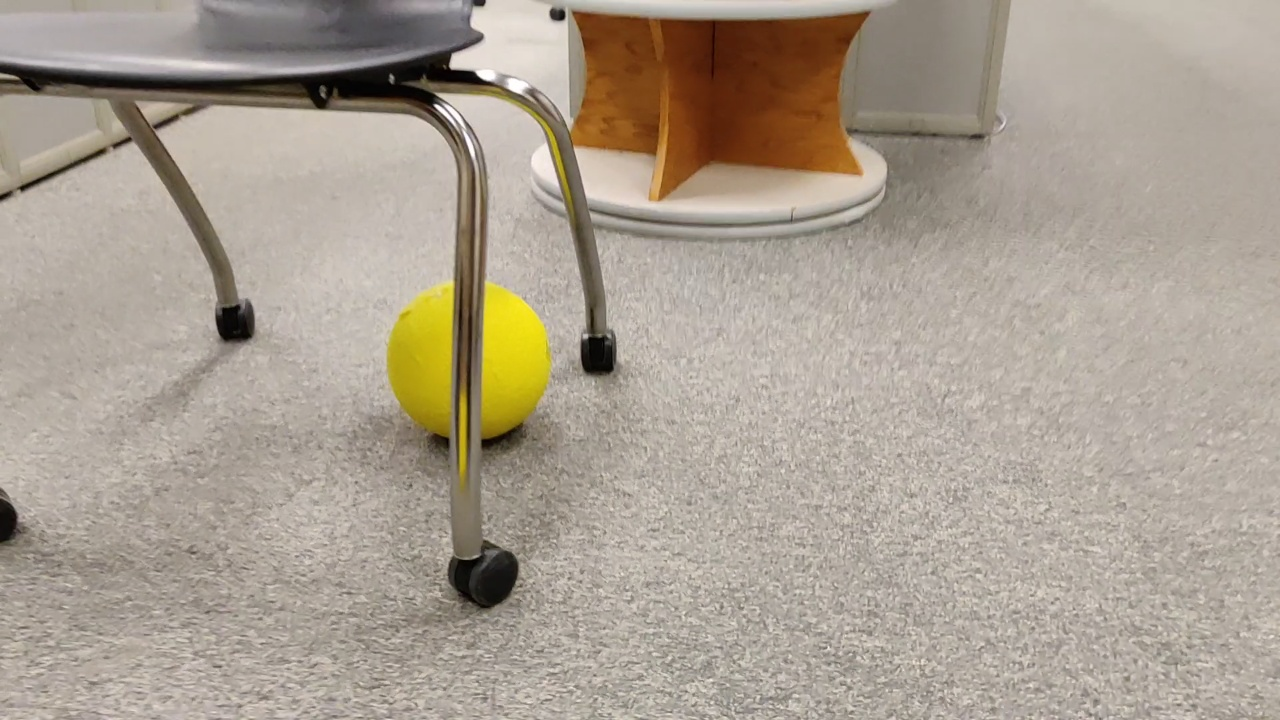Ball: (390, 279, 551, 437)
